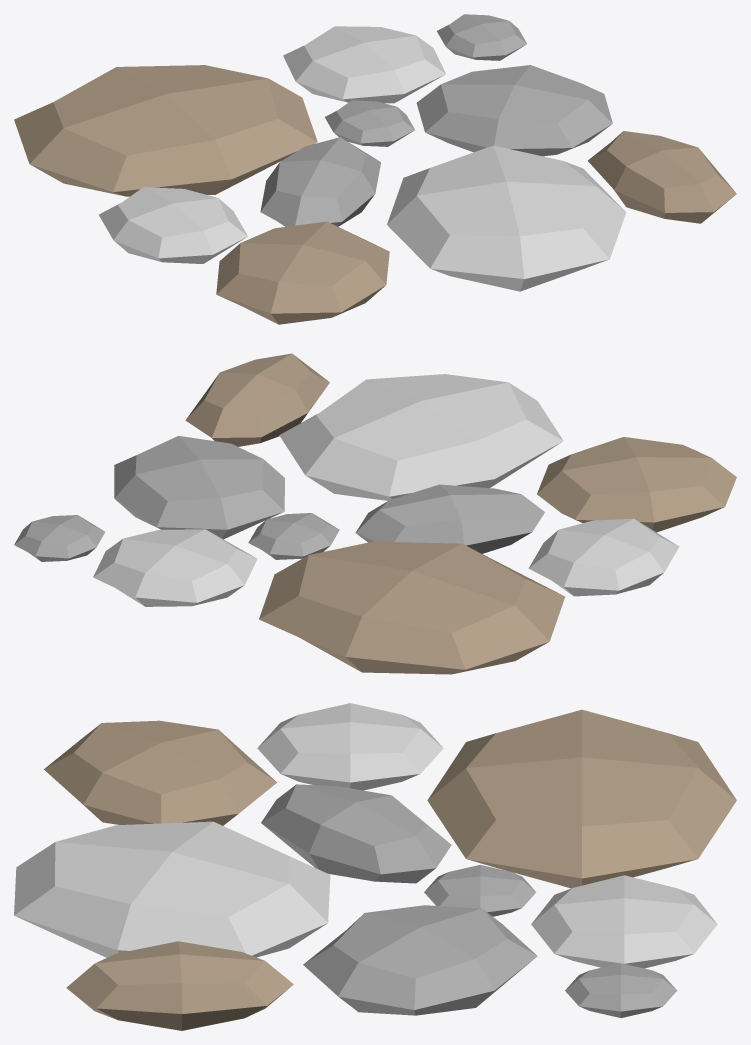
The model's file is Pebbles.fbx.
3 renders of one model, top to bottom at view 1: azimuth 30°, elevation 25°; view 2: azimuth 150°, elevation 25°; view 3: azimuth 270°, elevation 25°, orthographic. The views are drawn at different scales.
Parts seen in each view (by area): view 1: polySurface2, polySurface3, polySurface10, polySurface11, polySurface4, polySurface8, polySurface5, polySurface9, polySurface7, polySurface1; view 2: polySurface2, polySurface3, polySurface11, polySurface10, polySurface4, polySurface9, polySurface8, polySurface5, polySurface7, polySurface1; view 3: polySurface2, polySurface3, polySurface10, polySurface11, polySurface8, polySurface9, polySurface4, polySurface5, polySurface7, polySurface1.
Part boxes in pixels (x1=…): polySurface2: x1=14, y1=65, x2=317, y2=196; polySurface3: x1=387, y1=145, x2=626, y2=291; polySurface10: x1=416, y1=65, x2=612, y2=156; polySurface11: x1=216, y1=221, x2=389, y2=324; polySurface4: x1=283, y1=26, x2=445, y2=103; polySurface8: x1=588, y1=131, x2=736, y2=223; polySurface5: x1=99, y1=187, x2=247, y2=263; polySurface9: x1=260, y1=137, x2=380, y2=226; polySurface7: x1=437, y1=14, x2=526, y2=60; polySurface1: x1=324, y1=100, x2=414, y2=146; polySurface2: x1=259, y1=541, x2=564, y2=674; polySurface3: x1=279, y1=374, x2=563, y2=500; polySurface11: x1=537, y1=437, x2=736, y2=532; polySurface10: x1=114, y1=436, x2=284, y2=539; polySurface4: x1=93, y1=529, x2=257, y2=606; polySurface9: x1=355, y1=484, x2=544, y2=553; polySurface8: x1=185, y1=353, x2=329, y2=446; polySurface5: x1=528, y1=518, x2=679, y2=596; polySurface7: x1=14, y1=515, x2=105, y2=561; polySurface1: x1=248, y1=513, x2=339, y2=559; polySurface2: x1=427, y1=709, x2=736, y2=888; polySurface3: x1=14, y1=821, x2=330, y2=957; polySurface10: x1=303, y1=905, x2=537, y2=1015; polySurface11: x1=44, y1=720, x2=276, y2=825; polySurface8: x1=66, y1=941, x2=293, y2=1030; polySurface9: x1=261, y1=784, x2=451, y2=883; polySurface4: x1=531, y1=875, x2=717, y2=968; polySurface5: x1=257, y1=703, x2=443, y2=790; polySurface7: x1=565, y1=963, x2=677, y2=1017; polySurface1: x1=424, y1=865, x2=536, y2=916.
Bounding box in the file's own units: 0.9871 × 0.1325 × 1.
